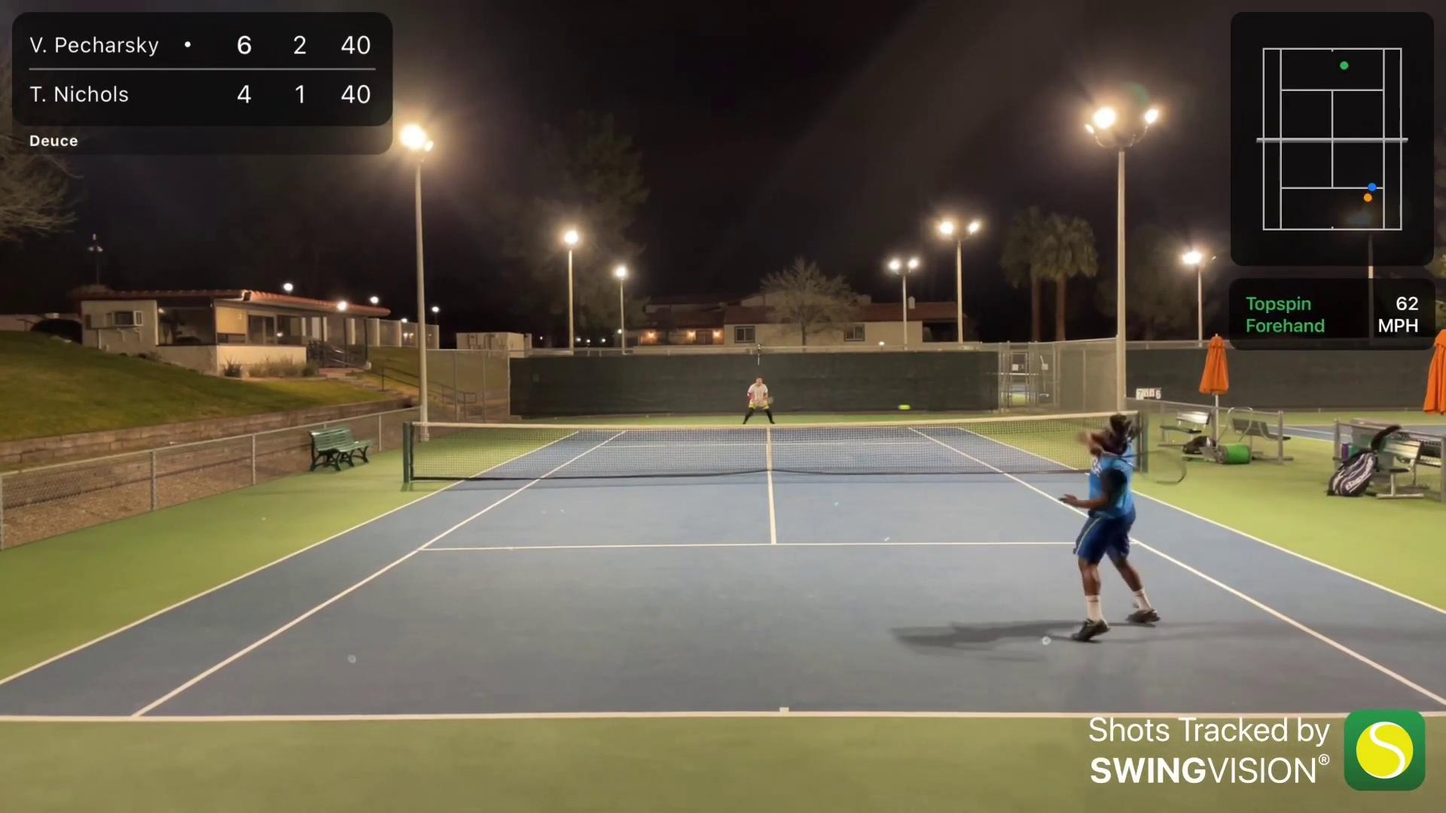ball: (898, 403, 906, 415)
